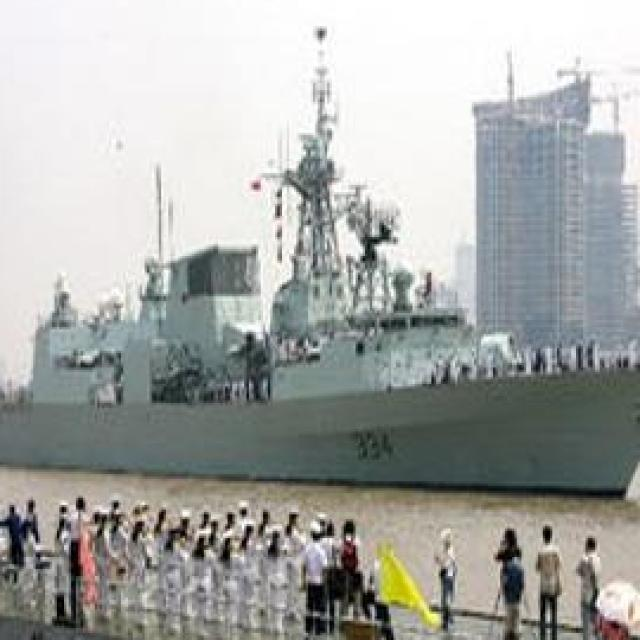navalvessels: (0, 128, 640, 498)
